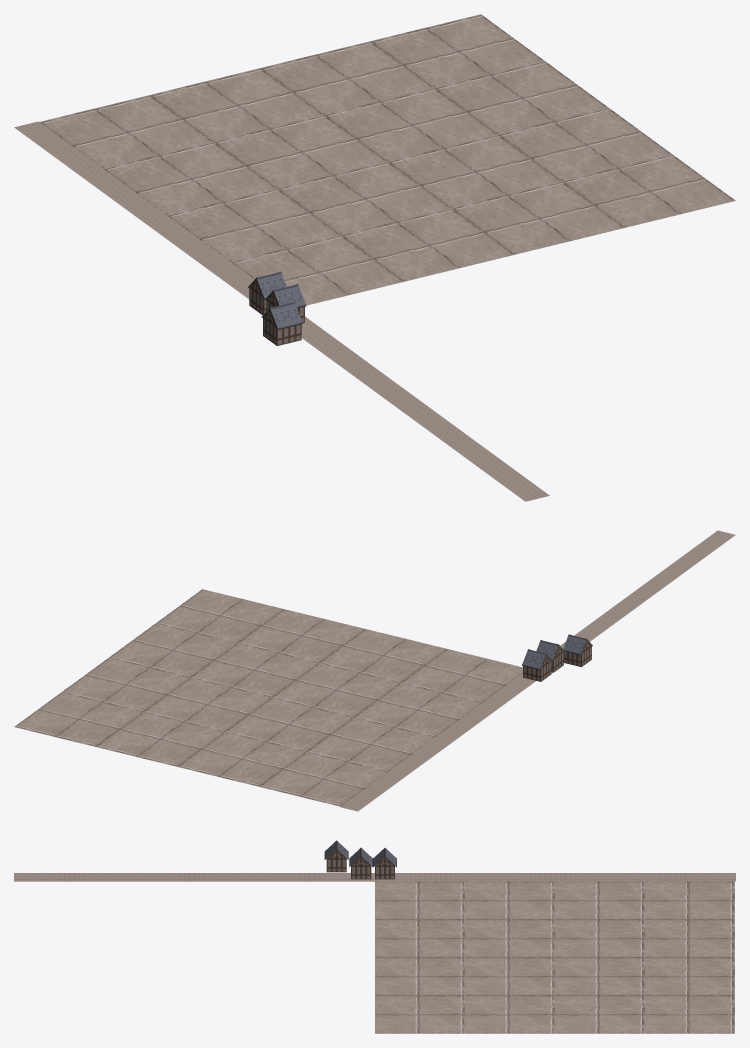
The picture shows the model from 3 angles, top to bottom: view 1: azimuth 30°, elevation 25°; view 2: azimuth 150°, elevation 25°; view 3: azimuth 270°, elevation 25°; orthographic projection. The views are drawn at different scales.
Visible parts, largest first — view 1: stone_floor_4x4, stone_floor_4x4.002, plaster_wall.002, plaster_wall; view 2: stone_floor_4x4, stone_floor_4x4.002, plaster_wall, plaster_wall.002, plaster_wall.001; view 3: stone_floor_4x4, stone_floor_4x4.002, plaster_wall.002, plaster_wall.001, plaster_wall.
Part boxes in pixels (x1,y1,x2,y2): stone_floor_4x4: [40, 14, 735, 305]; stone_floor_4x4.002: [14, 121, 549, 501]; plaster_wall.002: [261, 301, 302, 345]; plaster_wall: [248, 271, 286, 315]; stone_floor_4x4: [14, 589, 522, 806]; stone_floor_4x4.002: [340, 530, 735, 811]; plaster_wall: [522, 649, 552, 681]; plaster_wall.002: [563, 634, 592, 666]; plaster_wall.001: [536, 640, 564, 672]; stone_floor_4x4: [375, 881, 734, 1033]; stone_floor_4x4.002: [14, 873, 735, 881]; plaster_wall.002: [324, 840, 348, 872]; plaster_wall.001: [349, 847, 372, 879]; plaster_wall: [373, 848, 396, 879].
Bounding box in the file's own units: 80.15 × 5.19 × 144.
4 materials, 4 textured.
